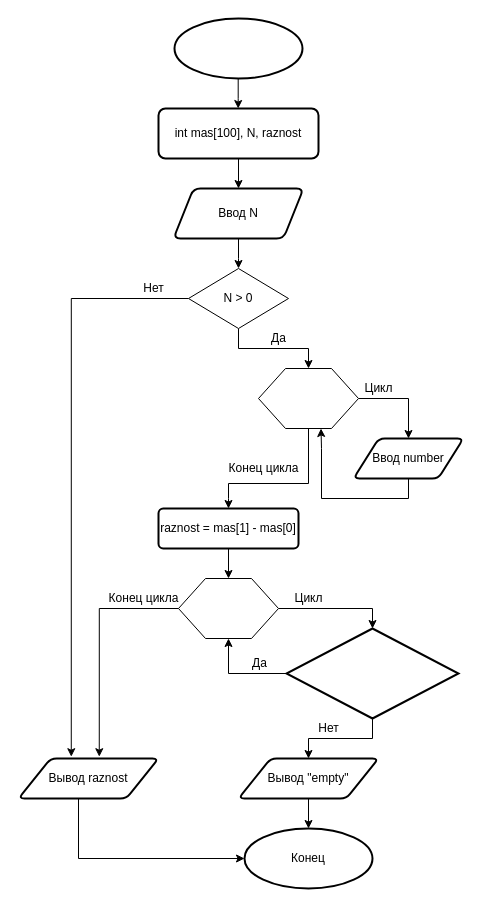
Some shapes in this 481 by 906 pixel diagram are drawn without their labels. The box of each missing label's shape, as (x1, y1, x2, y2) in pixels:
i = 0 до N: (258, 368, 358, 428)
i = 2 до N: (178, 578, 278, 638)
mas[i] - mas[i-1] == raznost: (285, 627, 459, 719)
Начало: (173, 17, 303, 79)
